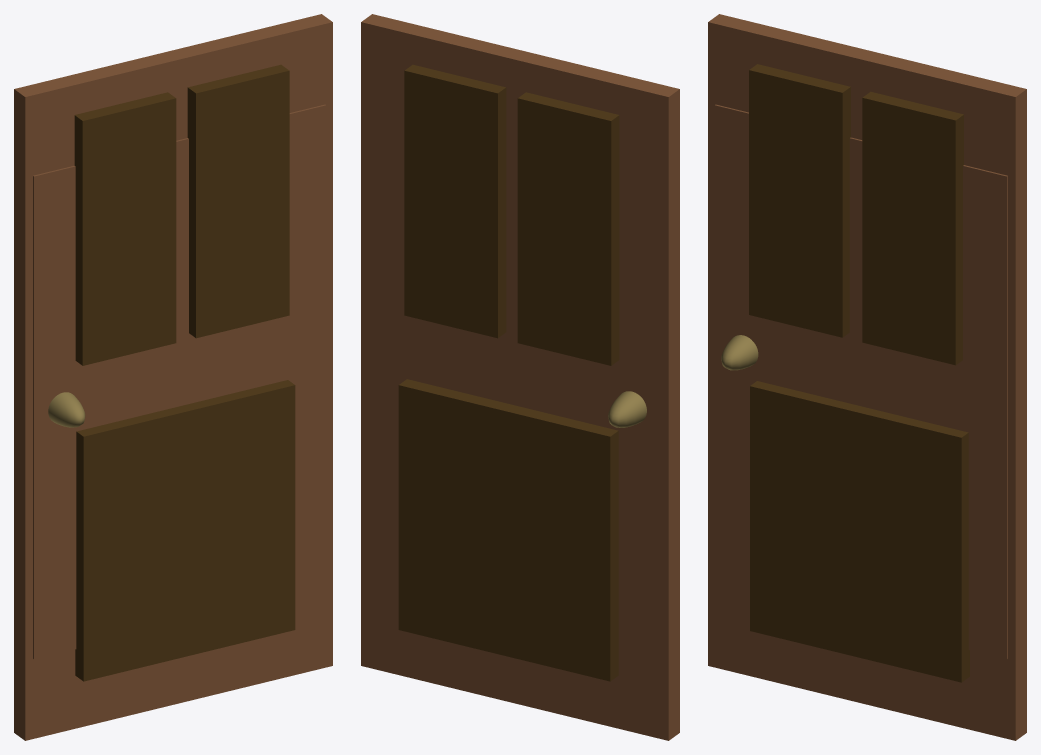
The model's file is creepy door 1.fbx.
The picture shows the model from 3 angles, left to right: view 1: azimuth 30°, elevation 25°; view 2: azimuth 150°, elevation 25°; view 3: azimuth 330°, elevation 25°; orthographic projection.
Parts seen in each view (by area): view 1: scary_door, pCube3, pCube2, pasted__pCube1, door_knob; view 2: scary_door, pCube3, pasted__pCube1, pCube2, door_knob; view 3: scary_door, pCube3, pasted__pCube1, pCube2, door_knob.
Boxes of the visible parts, box(x1,y1,x2,y2) form: scary_door: box(14, 14, 332, 740); pCube3: box(75, 380, 295, 681); pCube2: box(74, 92, 176, 365); pasted__pCube1: box(187, 64, 289, 338); door_knob: box(48, 392, 85, 427); scary_door: box(361, 14, 679, 740); pCube3: box(398, 379, 618, 681); pasted__pCube1: box(404, 64, 506, 338); pCube2: box(517, 92, 619, 365); door_knob: box(608, 391, 646, 427); scary_door: box(708, 14, 1026, 740); pCube3: box(750, 381, 969, 682); pasted__pCube1: box(862, 91, 963, 365); pCube2: box(749, 64, 850, 337); door_knob: box(721, 335, 758, 370).
Size of the model in its own units: 4 by 8 by 1.13.
